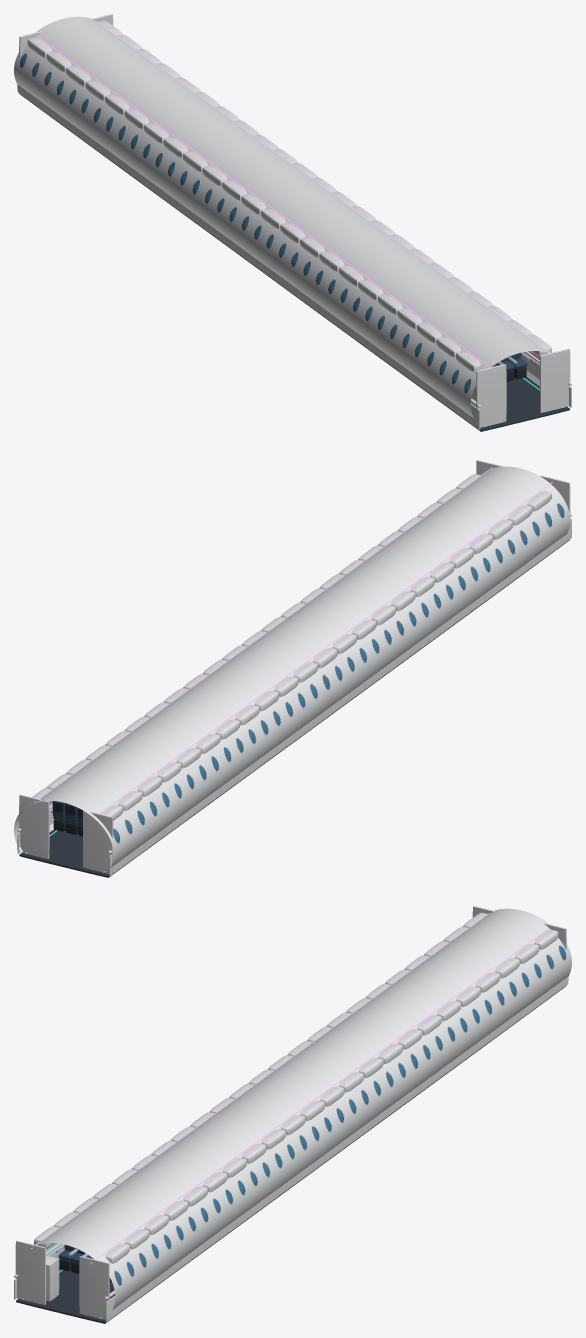
The model's file is boeing-737-800.glb.
3 views of the same model, one above another, from view 1: azimuth 30°, elevation 25°; view 2: azimuth 150°, elevation 25°; view 3: azimuth 330°, elevation 25° (orthographic).
Visible parts, largest first — view 1: Lower sidewall -1, Carpet floor, Bulkhead left, Bulkhead right, Cabin wall bay -1 36, Cabin wall bay -1 28, Cabin wall bay -1 22, Cabin wall bay -1 14, Cabin wall bay -1 6, Cabin wall bay -1 11, Cabin wall bay -1 33, Cabin wall bay -1 34 (+31 smaller); view 2: Lower sidewall -1, Carpet floor, Bulkhead right, Bulkhead left, Cabin wall bay -1 36, Cabin wall bay -1 1, Cabin wall bay -1 3, Cabin wall bay -1 33, Cabin wall bay -1 4, Cabin wall bay -1 6, Cabin wall bay -1 9, Cabin wall bay -1 23 (+31 smaller); view 3: Lower sidewall 1, Carpet floor, Bulkhead right, Bulkhead left, Cabin wall bay 1 36, Cabin wall bay 1 28, Cabin wall bay 1 22, Cabin wall bay 1 14, Cabin wall bay 1 33, Cabin wall bay 1 6, Cabin wall bay 1 11, Cabin wall bay 1 34 (+32 smaller).
Boxes of the visible parts, left/top/right/bottom form: Lower sidewall -1: left=17, top=84, right=480, bottom=429; Carpet floor: left=20, top=94, right=569, bottom=431; Bulkhead left: left=476, top=364, right=506, bottom=428; Bulkhead right: left=540, top=348, right=570, bottom=412; Cabin wall bay -1 36: left=458, top=344, right=519, bottom=417; Cabin wall bay -1 28: left=359, top=271, right=421, bottom=345; Cabin wall bay -1 22: left=285, top=217, right=346, bottom=291; Cabin wall bay -1 14: left=186, top=145, right=248, bottom=218; Cabin wall bay -1 6: left=88, top=73, right=149, bottom=146; Cabin wall bay -1 11: left=149, top=118, right=211, bottom=191; Cabin wall bay -1 33: left=421, top=317, right=482, bottom=390; Cabin wall bay -1 34: left=433, top=325, right=495, bottom=399; Lower sidewall -1: left=109, top=518, right=571, bottom=875; Carpet floor: left=19, top=540, right=569, bottom=877; Bulkhead right: left=19, top=794, right=49, bottom=858; Bulkhead left: left=83, top=810, right=113, bottom=874; Cabin wall bay -1 36: left=508, top=468, right=570, bottom=542; Cabin wall bay -1 1: left=76, top=784, right=138, bottom=858; Cabin wall bay -1 3: left=101, top=766, right=162, bottom=840; Cabin wall bay -1 33: left=471, top=495, right=533, bottom=569; Cabin wall bay -1 4: left=113, top=757, right=175, bottom=831; Cabin wall bay -1 6: left=138, top=739, right=199, bottom=813; Cabin wall bay -1 9: left=175, top=712, right=236, bottom=785; Cabin wall bay -1 23: left=348, top=586, right=409, bottom=659; Lower sidewall 1: left=105, top=976, right=568, bottom=1321; Carpet floor: left=16, top=986, right=565, bottom=1323; Bulkhead right: left=79, top=1256, right=109, bottom=1320; Bulkhead left: left=15, top=1240, right=45, bottom=1304; Cabin wall bay 1 36: left=66, top=1236, right=127, bottom=1309; Cabin wall bay 1 28: left=164, top=1163, right=226, bottom=1237; Cabin wall bay 1 22: left=239, top=1109, right=300, bottom=1183; Cabin wall bay 1 14: left=337, top=1037, right=399, bottom=1110; Cabin wall bay 1 33: left=103, top=1209, right=164, bottom=1282; Cabin wall bay 1 6: left=436, top=965, right=497, bottom=1038; Cabin wall bay 1 11: left=374, top=1010, right=436, bottom=1083; Cabin wall bay 1 34: left=90, top=1217, right=152, bottom=1291.
Bounding box in the file's own units: 3.54 × 2.21 × 28.44.
